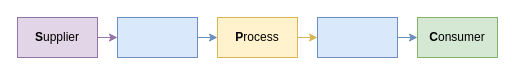
Image size: 515x75. Some labels were removed from this diagram. The box of each missing label's shape, as (x1, y1, x2, y2) in pixels:
I nput: (116, 16, 198, 58)
O utput: (316, 16, 398, 58)
